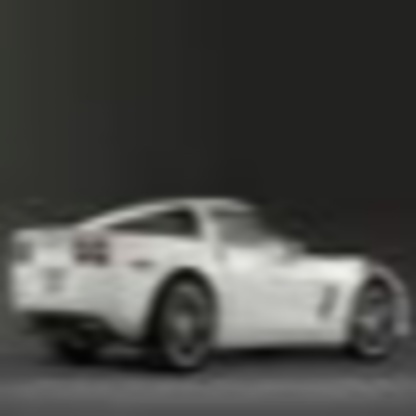Vehicle: (10, 186, 412, 397)
